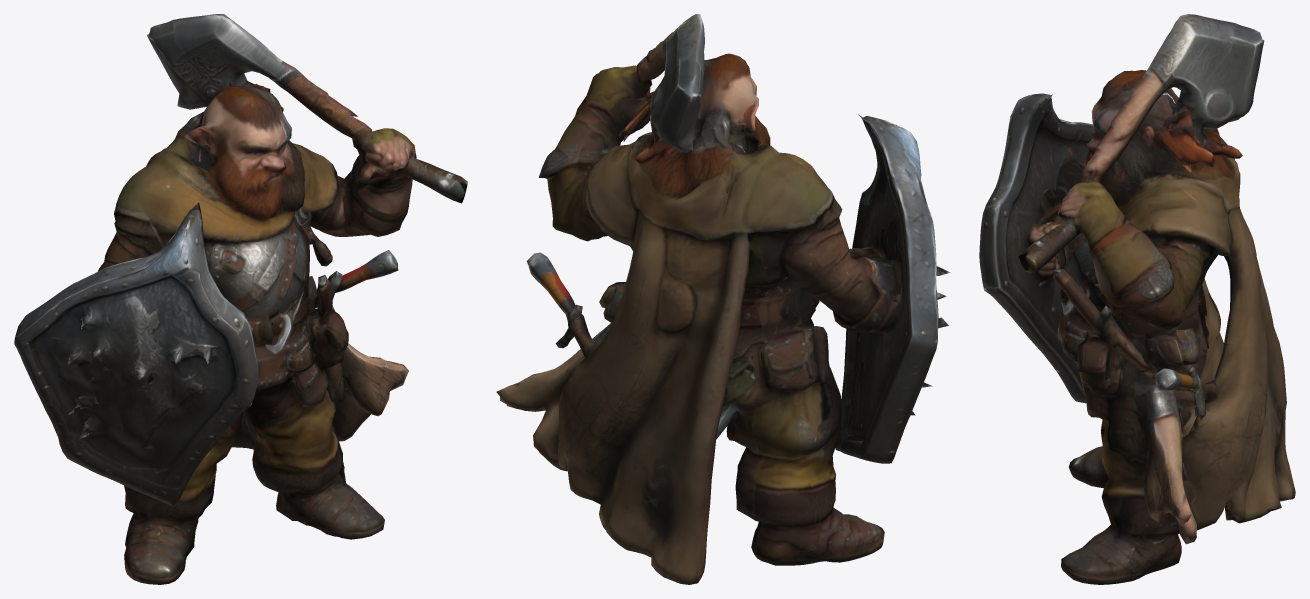
Rendered from dwarfwarrior.glb.
3 renders of one model, left to right at view 1: azimuth 30°, elevation 25°; view 2: azimuth 150°, elevation 25°; view 3: azimuth 270°, elevation 25°, orthographic. The views are drawn at different scales.
Bounding box in the file's own units: 1.68 × 2 × 1.12.
Materials: 1 (1 with a texture image).
